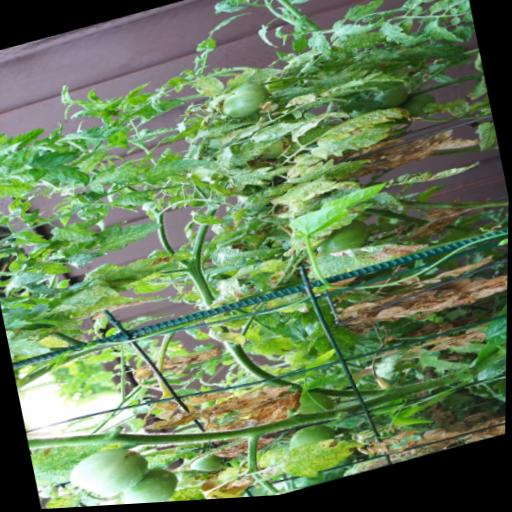Healthy: (478, 297, 508, 354)
Spider Mites: (257, 427, 370, 493), (304, 228, 432, 285), (30, 424, 134, 489), (95, 245, 198, 292), (268, 171, 362, 219), (282, 151, 375, 196), (308, 123, 395, 167), (320, 105, 410, 144), (394, 158, 481, 195), (94, 214, 166, 256), (209, 234, 281, 275), (138, 150, 212, 189), (86, 155, 153, 198), (305, 203, 378, 242), (375, 14, 437, 57), (339, 68, 408, 106), (112, 480, 207, 507), (287, 109, 353, 146), (231, 159, 296, 194), (58, 279, 123, 314), (306, 64, 371, 97), (226, 135, 286, 170), (330, 29, 387, 65), (222, 62, 285, 94), (329, 12, 386, 47), (419, 18, 466, 57), (129, 94, 188, 125), (48, 216, 98, 252), (247, 118, 308, 147), (7, 325, 52, 361), (207, 320, 250, 356), (0, 161, 36, 202), (247, 183, 296, 212), (110, 186, 157, 215), (204, 113, 258, 138), (341, 0, 387, 28), (370, 190, 405, 222), (205, 12, 253, 35), (398, 0, 465, 16), (188, 206, 227, 233), (9, 265, 53, 288), (40, 489, 87, 510), (305, 33, 334, 67), (276, 82, 316, 106), (193, 75, 226, 102), (473, 125, 498, 158), (426, 0, 469, 18), (365, 48, 400, 69), (257, 257, 289, 278), (41, 258, 73, 279), (206, 230, 237, 248), (217, 130, 245, 147), (286, 0, 333, 9), (283, 0, 346, 3)
